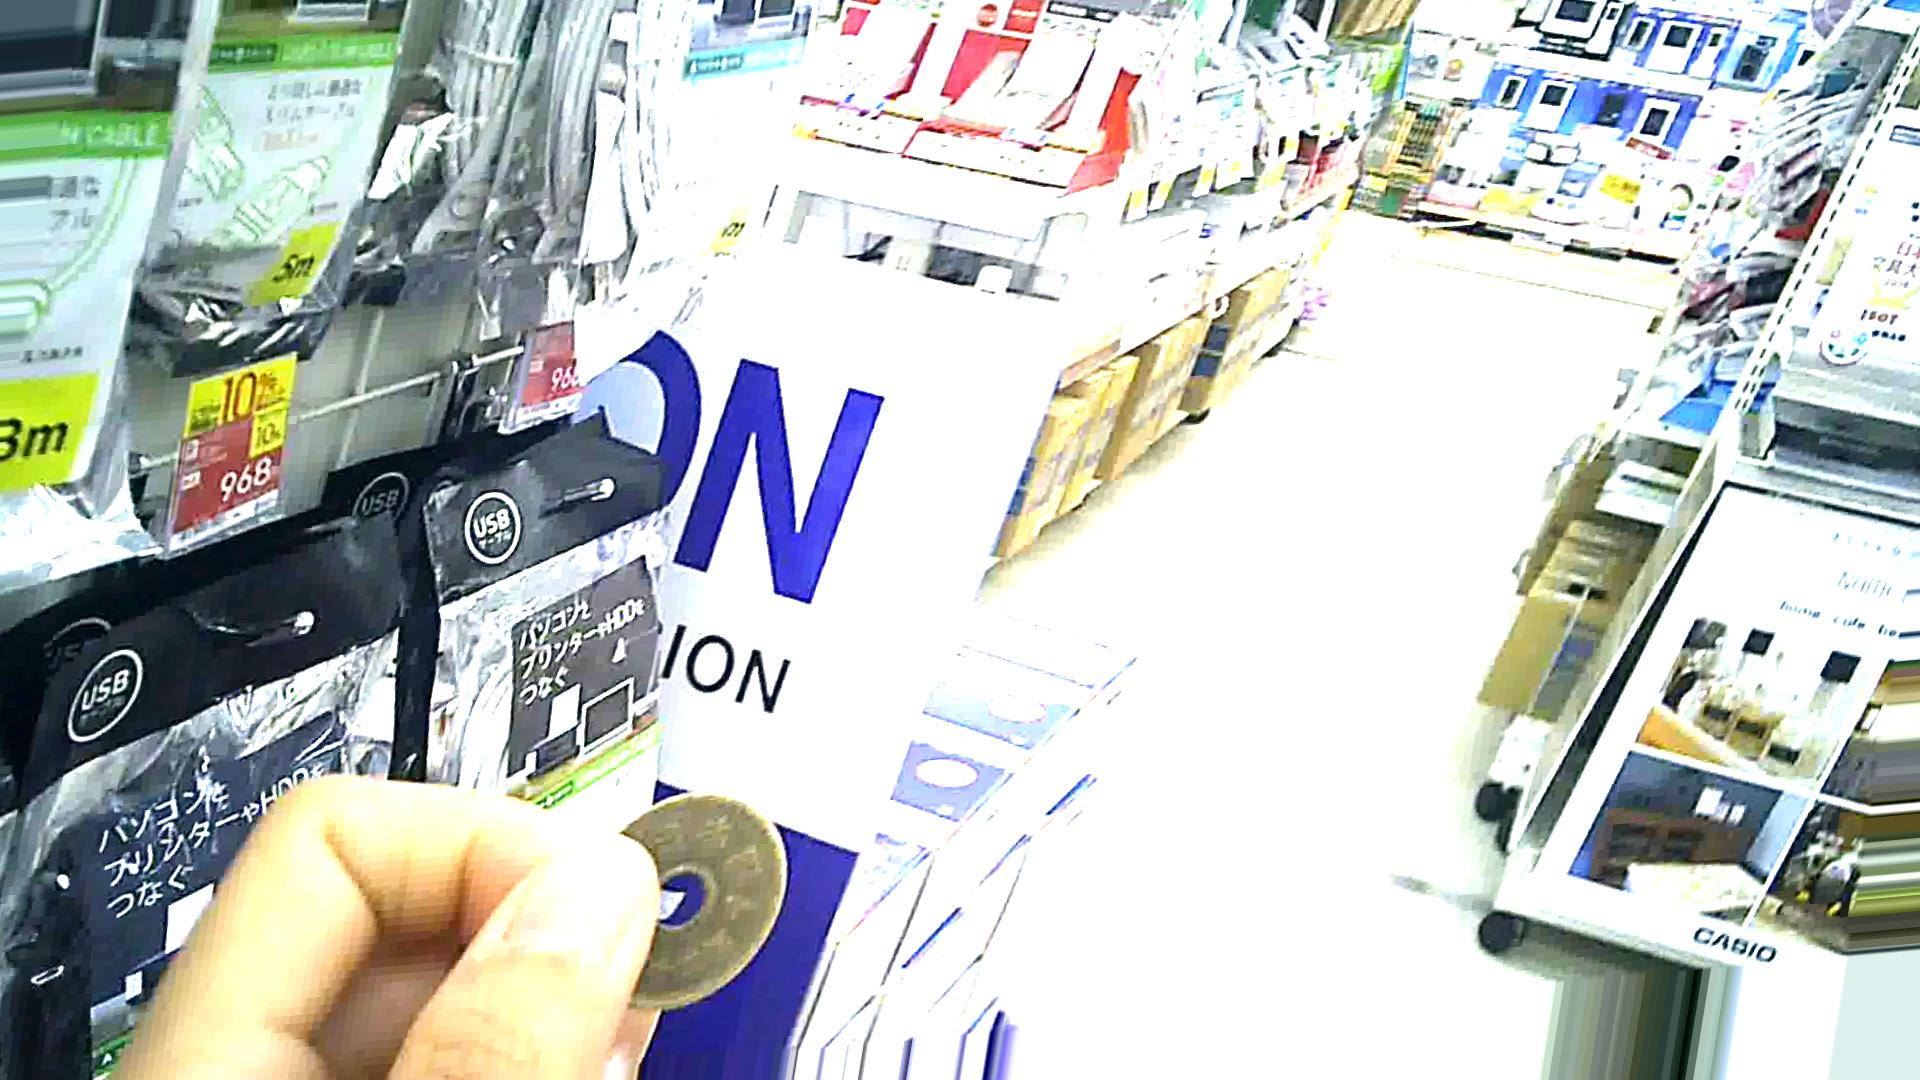5 Yen: (591, 793, 803, 1015)
